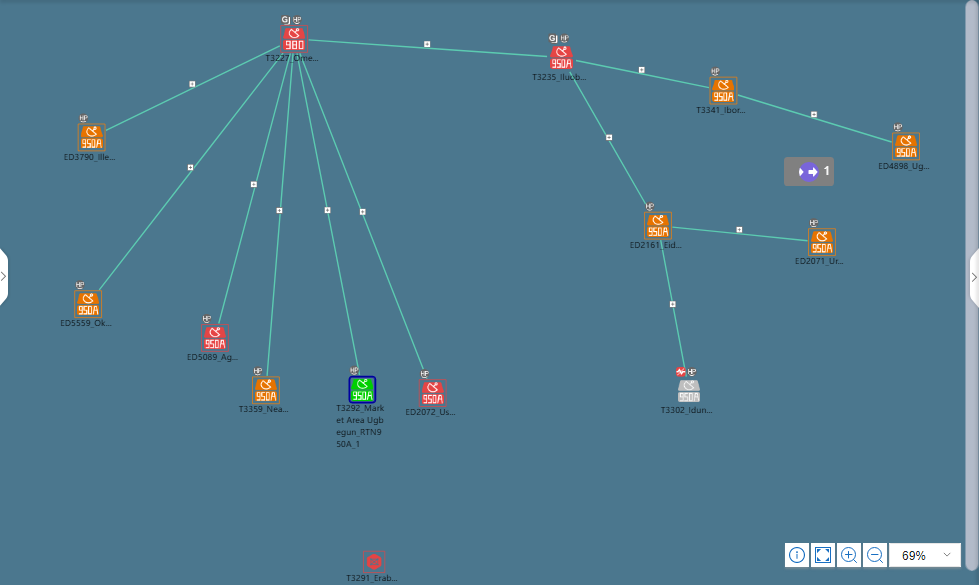Link_Blue: (101, 51, 281, 283), (303, 72, 421, 366), (297, 74, 363, 380), (217, 63, 285, 315), (107, 45, 275, 126), (566, 69, 650, 207), (737, 94, 895, 147), (266, 57, 292, 349), (327, 39, 552, 62), (578, 57, 711, 92), (658, 240, 684, 366), (719, 228, 809, 245)
RTN_Gray: (676, 381, 699, 404)
RTN_Green: (352, 375, 373, 404)
RTN_Orange: (76, 124, 106, 153), (254, 375, 283, 404), (76, 289, 99, 319), (646, 216, 675, 237), (811, 228, 832, 257), (896, 136, 919, 159), (713, 81, 734, 103)
RTN_Red: (548, 45, 577, 74), (419, 381, 448, 410), (278, 26, 306, 55), (205, 326, 228, 355)
